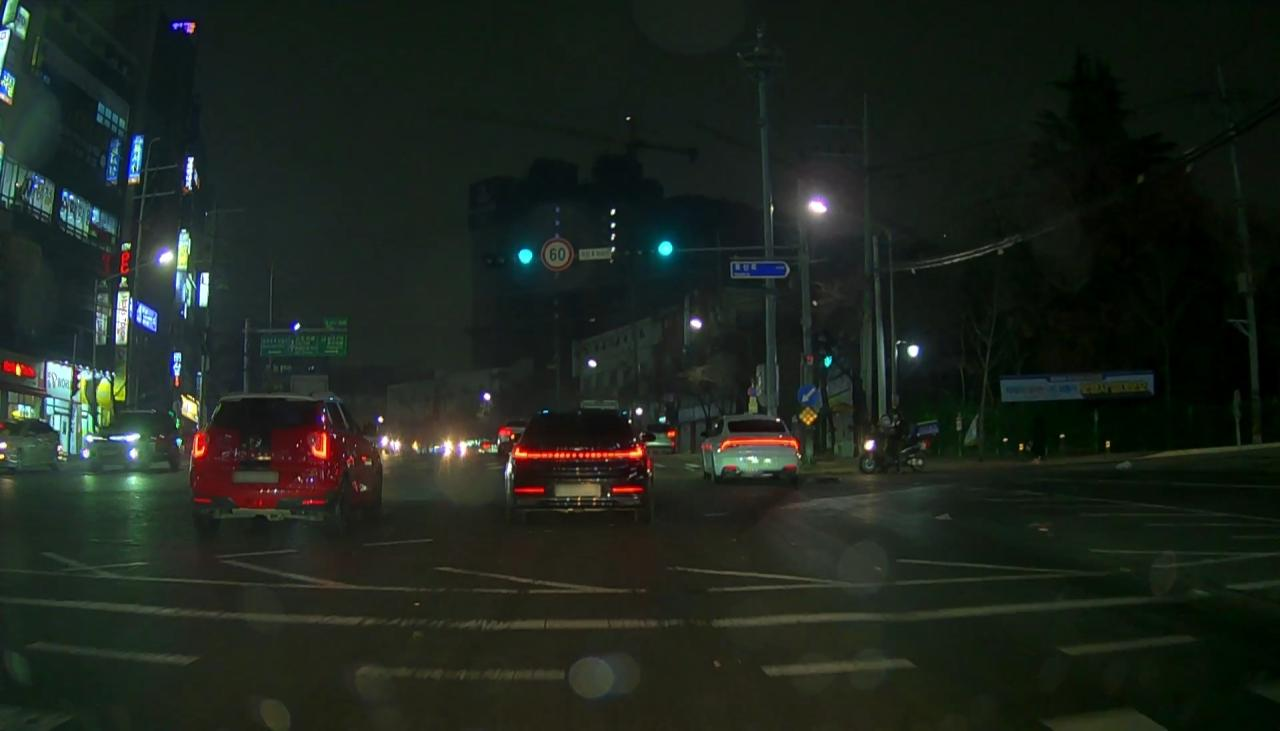Green Light: (516, 247, 534, 265), (658, 240, 674, 258)
